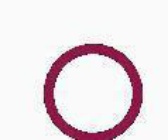RadioButton: (1, 1, 167, 139)
